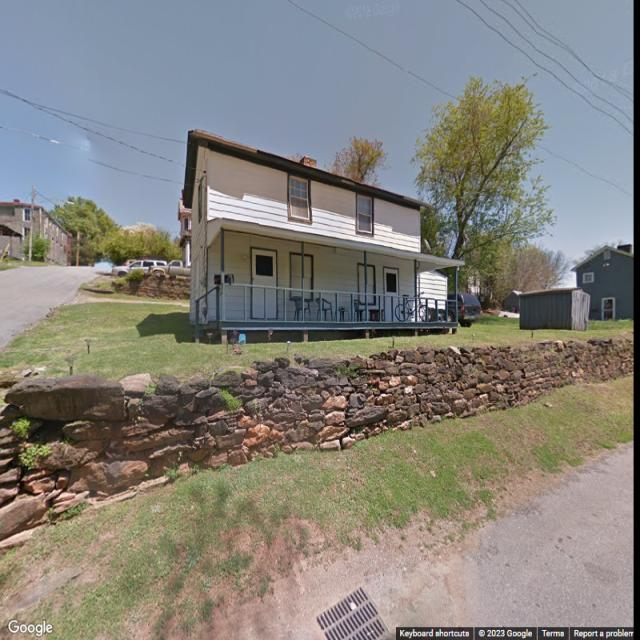House: (185, 131, 465, 342), (571, 244, 634, 322), (0, 198, 72, 266), (177, 197, 192, 268)
